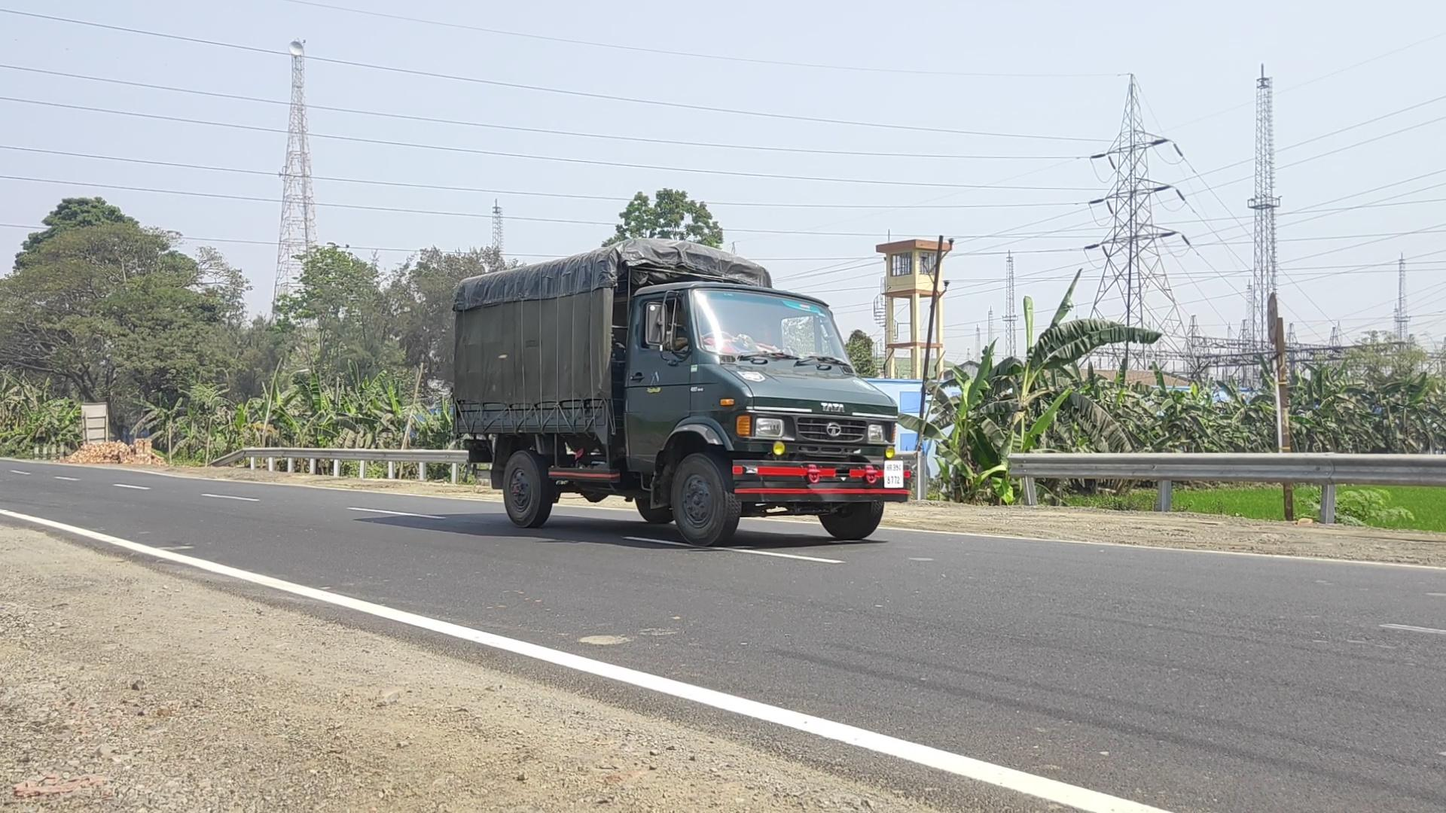truck: (450, 237, 911, 549)
